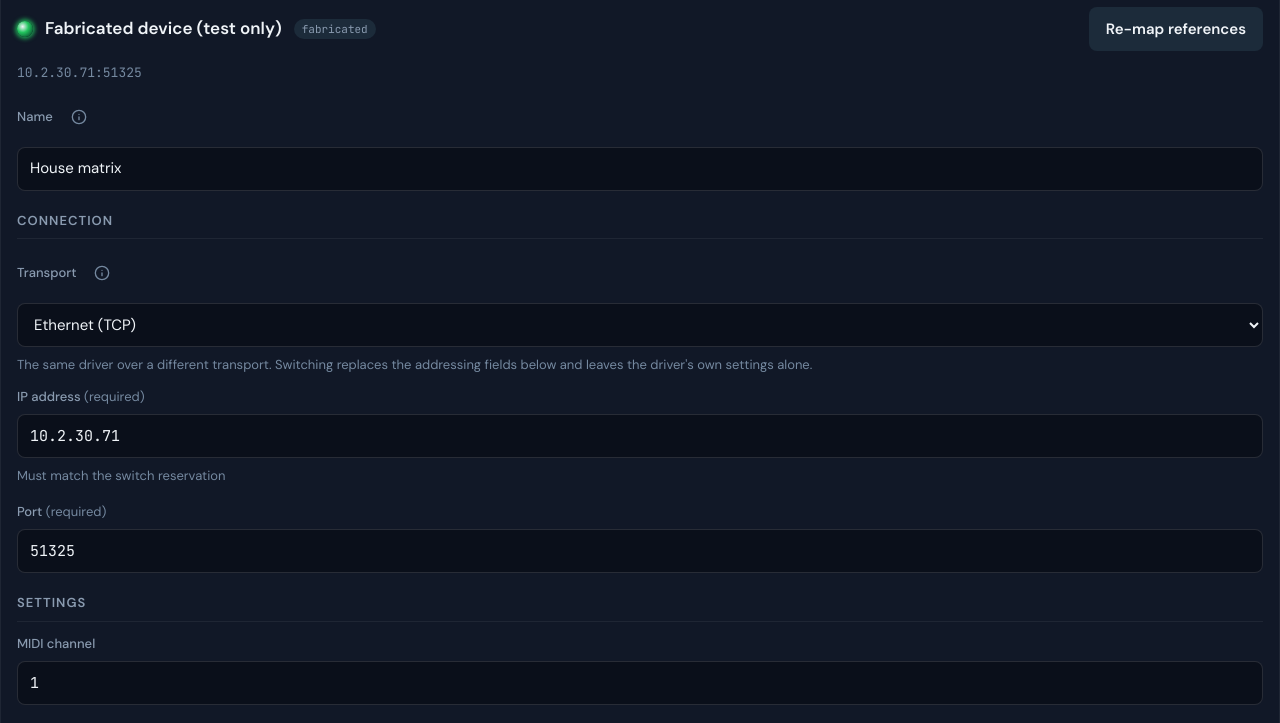
Scenario: DeviceCard › renders the Connection and Settings sections from the two schemas
Expected: the heading "Connection" is shown, [17,210,1263,239]
Expected: the heading "Settings" is shown, [17,593,1263,622]
Select "Serial" in the dropdown labelled "Transport" at [640, 325], box [17,303,1263,347]
(page scrolled)
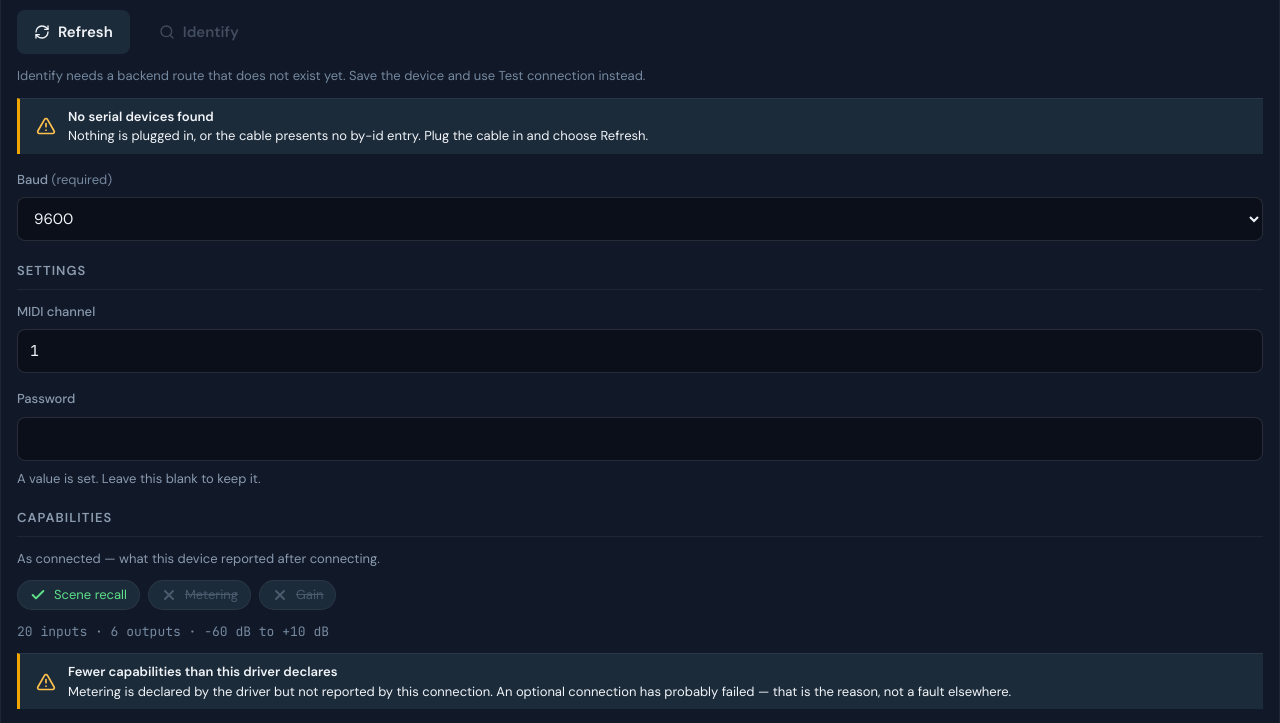
Expected: the number field labelled "MIDI channel" holds "1", [17,329,1263,373]
Result: the label labelled "IP address" is gone
Result: the dropdown labelled "Baud (required)" shows "9600" at [17,197,1263,241]
